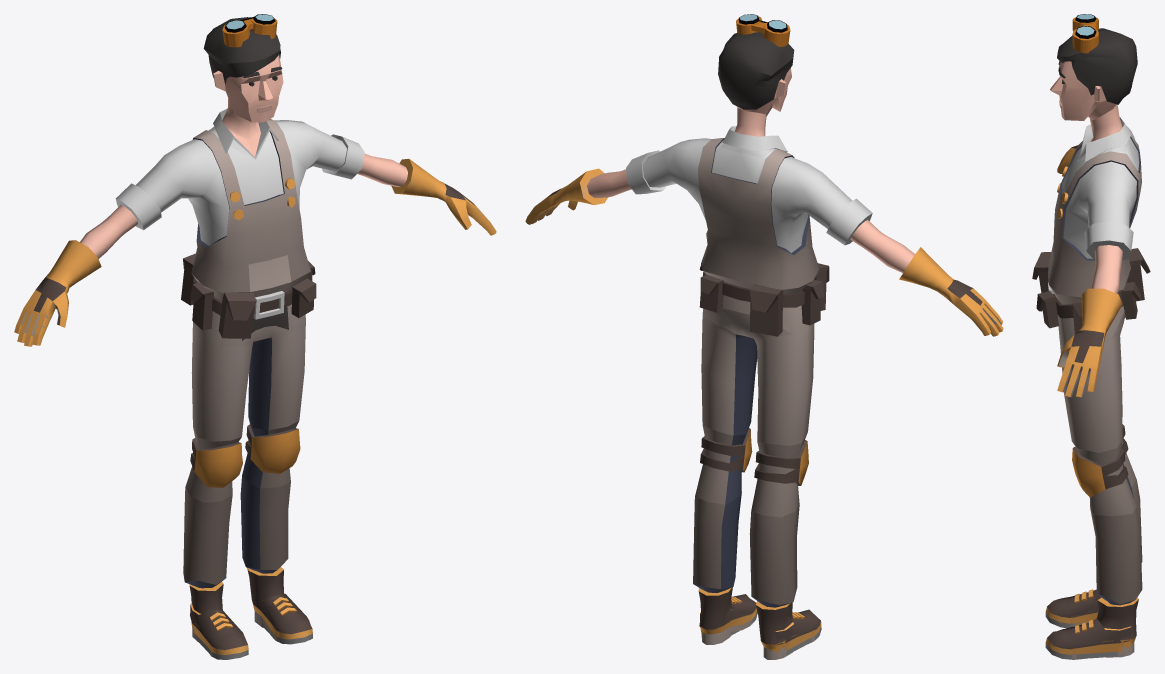
File: HumainPlayer.fbx
3 views of the same model, side by side, from view 1: azimuth 30°, elevation 25°; view 2: azimuth 150°, elevation 25°; view 3: azimuth 270°, elevation 25° (orthographic).
Visible parts, largest first — view 1: Player; view 2: Player; view 3: Player.
Boxes of the visible parts, x1=… form: Player: x1=14, y1=14, x2=496, y2=659; Player: x1=525, y1=14, x2=1003, y2=659; Player: x1=1032, y1=14, x2=1150, y2=659.
Size of the model in its own units: 161 by 201 by 35.15.
3 materials, 1 textured.
